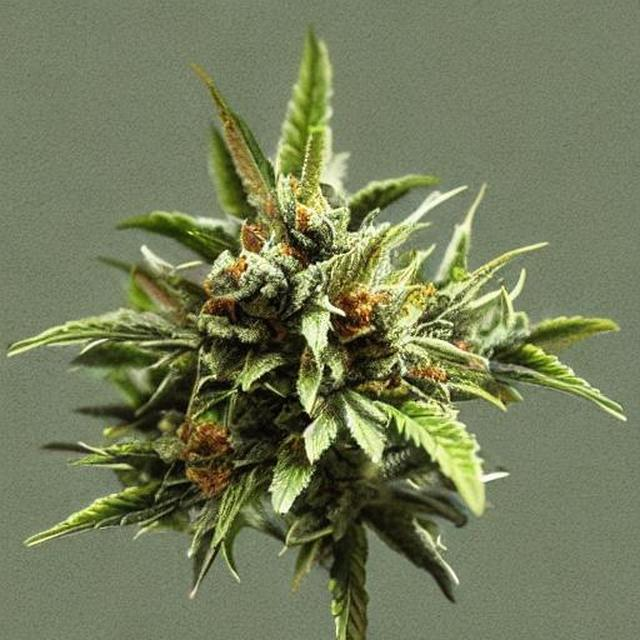Marijuana Plant: (0, 45, 600, 640)
